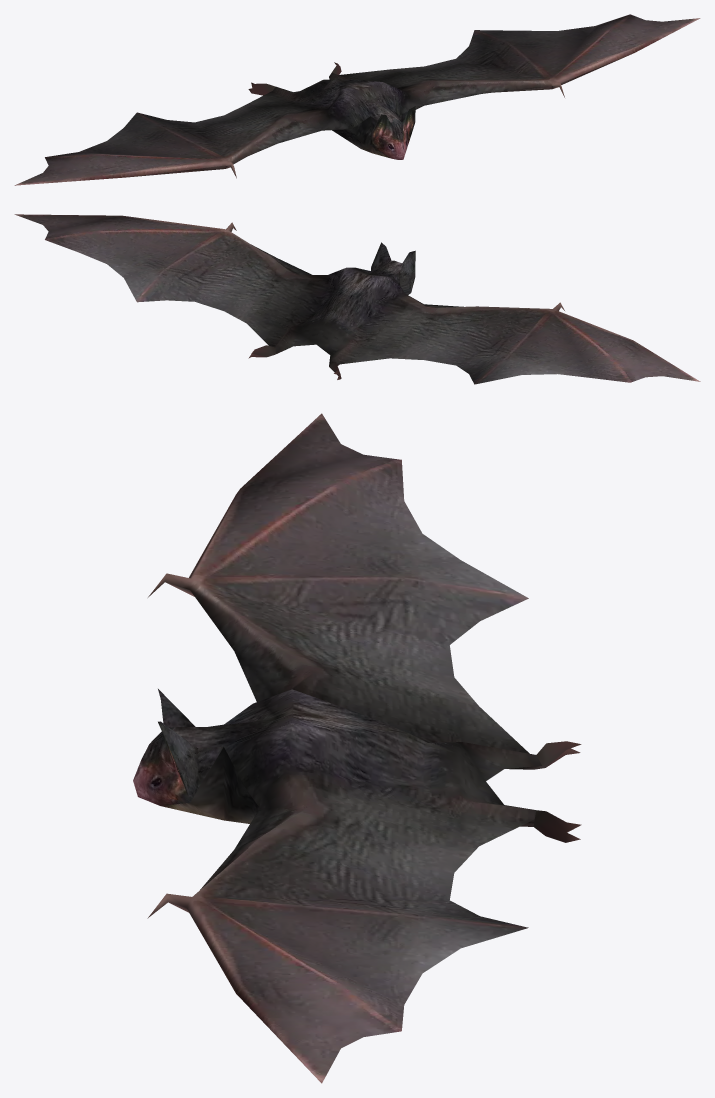
File: Bat.glb
The picture shows the model from 3 angles, top to bottom: view 1: azimuth 30°, elevation 25°; view 2: azimuth 150°, elevation 25°; view 3: azimuth 270°, elevation 25°; orthographic projection. The views are drawn at different scales.
Parts seen in each view (by area): view 1: Bat; view 2: Bat; view 3: Bat.
Part boxes in pixels (x1,y1,x2,y2): Bat: [14, 14, 700, 185]; Bat: [14, 214, 700, 384]; Bat: [133, 413, 581, 1083].
Size of the model in its own units: 0.0156 by 0.00128 by 0.0044.
Materials: 1 (1 with a texture image).
